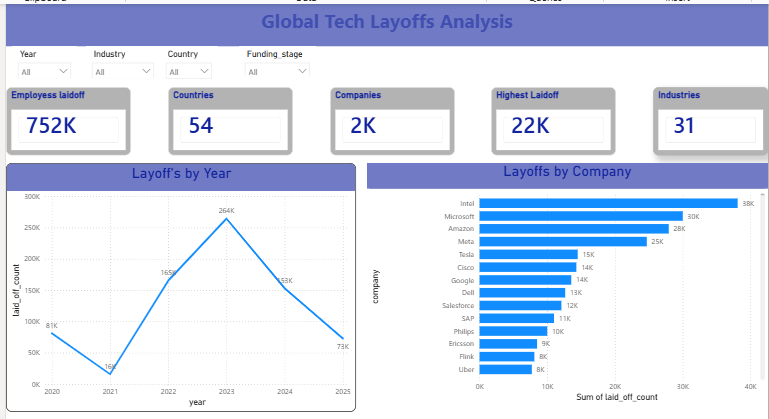

The page's visual inventory and layout, read from the dashboard file:
{"tool":"powerbi","page":{"name":"Executive Overview","canvas":[1280,720],"ordinal":0},"visuals":[{"type":"textbox","box":[0,0,1280,70.6],"z":0},{"type":"slicer","fields":{"Values":["layoffs_events.year"]},"box":[10.1,70.6,109.2,53.8],"z":1000},{"type":"slicer","fields":{"Values":["layoffs_events.industry"]},"box":[134.4,70.6,124.3,53.8],"z":2000},{"type":"slicer","fields":{"Values":["layoffs_events.country"]},"box":[258.1,70.6,97.4,57.1],"z":3000},{"type":"slicer","fields":{"Values":["layoffs_events.funding_stage"]},"box":[391.4,70.6,129.3,50.4],"z":4000},{"type":"cardVisual","title":"Companies","fields":{"Data":["layoffs_events.Companies"]},"box":[543.4,139.4,210,115],"z":5000},{"type":"cardVisual","title":"Countries","fields":{"Data":["layoffs_events.Countries"]},"box":[271.7,139.4,210,115],"z":6000},{"type":"cardVisual","title":"Highest Laidoff","fields":{"Data":["layoffs_events.Largest Layoff"]},"box":[815.1,139.4,210,115],"z":7000},{"type":"cardVisual","title":"Employess laidoff","fields":{"Data":["layoffs_events.Total Laid Off"]},"box":[0,139.4,210,115],"z":8000},{"type":"cardVisual","title":"Industries","fields":{"Data":["layoffs_country_summary.Total Industries Laid Off"]},"box":[1086,139.4,194,115],"z":8001},{"type":"lineChart","title":"Layoff''s by Year","fields":{"Category":["layoffs_events.year"],"Y":["Sum(layoffs_events.laid_off_count)"]},"box":[0,267.1,587.9,418.3],"z":8002},{"type":"clusteredBarChart","title":"Layoffs by Company","fields":{"Category":["layoffs_events.company"],"Y":["Sum(layoffs_events.laid_off_count)"]},"box":[606.4,267.1,673.6,406.5],"z":8003}]}

Visuals, with their boxes on the page's 1280x720 design canvas (x1, y1, x2, y2). These are canvas units, not pixel positions in the 769x419 screenshot, which may show the page scaled, cropped or inside an application window:
textbox: bbox=(0, 0, 1280, 71)
slicer - layoffs_events.year: bbox=(10, 71, 119, 124)
slicer - layoffs_events.industry: bbox=(134, 71, 259, 124)
slicer - layoffs_events.country: bbox=(258, 71, 356, 128)
slicer - layoffs_events.funding_stage: bbox=(391, 71, 521, 121)
"Companies" cardVisual: bbox=(543, 139, 753, 254)
"Countries" cardVisual: bbox=(272, 139, 482, 254)
"Highest Laidoff" cardVisual: bbox=(815, 139, 1025, 254)
"Employess laidoff" cardVisual: bbox=(0, 139, 210, 254)
"Industries" cardVisual: bbox=(1086, 139, 1280, 254)
"Layoff''s by Year" lineChart: bbox=(0, 267, 588, 685)
"Layoffs by Company" clusteredBarChart: bbox=(606, 267, 1280, 674)
